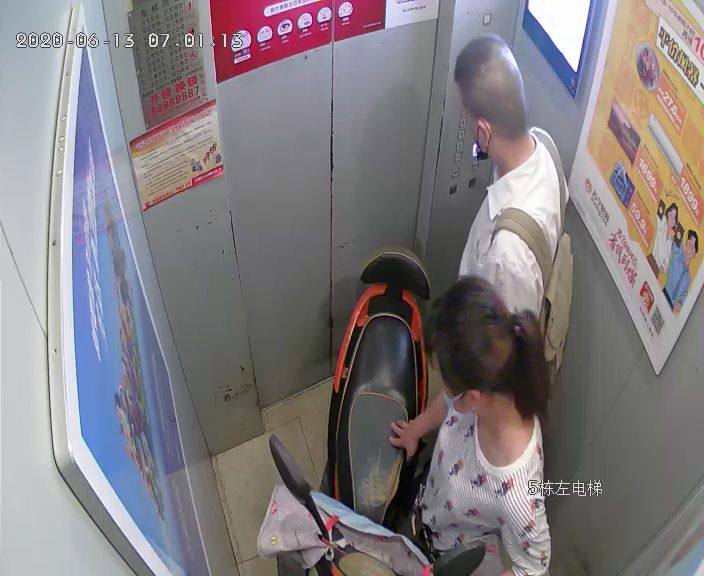Electric-bicycle: (268, 243, 487, 576)
